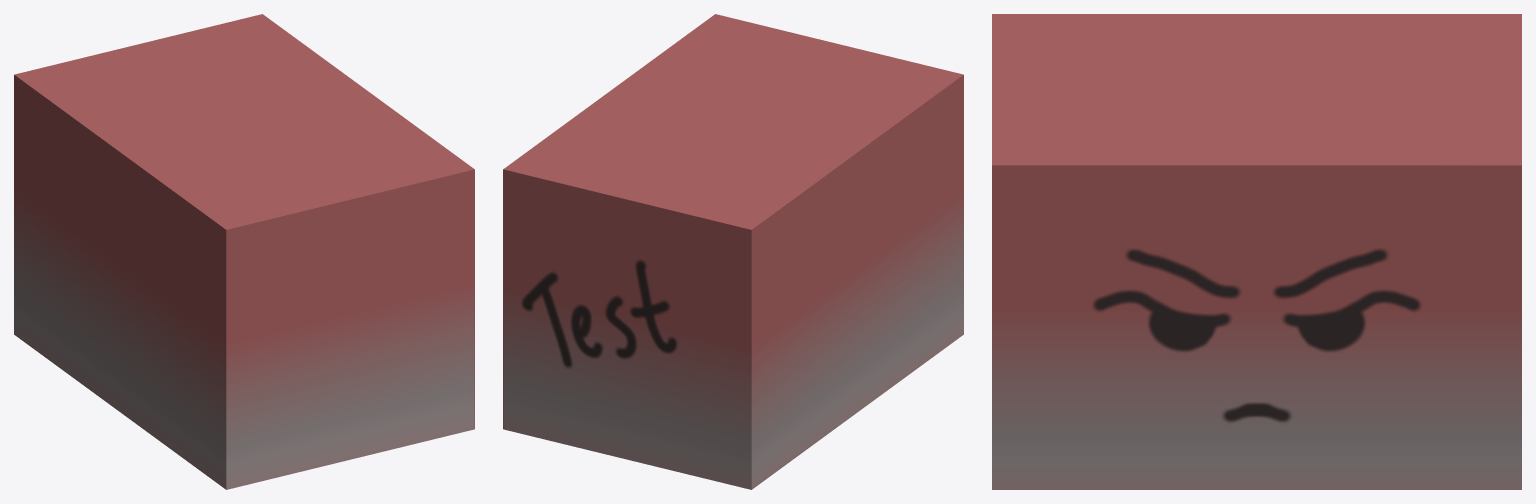
File: testcubecallum.glb
3 views of the same model, side by side, from view 1: azimuth 30°, elevation 25°; view 2: azimuth 150°, elevation 25°; view 3: azimuth 270°, elevation 25° (orthographic). The views are drawn at different scales.
Parts seen in each view (by area): view 1: Cube; view 2: Cube; view 3: Cube.
Part boxes in pixels (x1=…): Cube: x1=14, y1=14, x2=474, y2=489; Cube: x1=503, y1=14, x2=963, y2=489; Cube: x1=992, y1=14, x2=1521, y2=489.
Size of the model in its own units: 2 by 2 by 2.96.
Materials: 1 (1 with a texture image).
